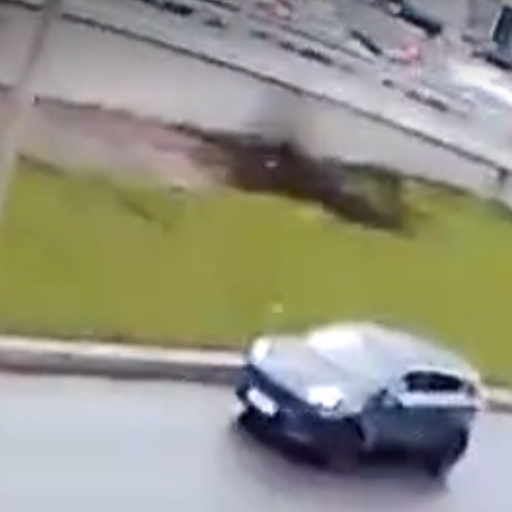Car: (239, 313, 483, 478)
